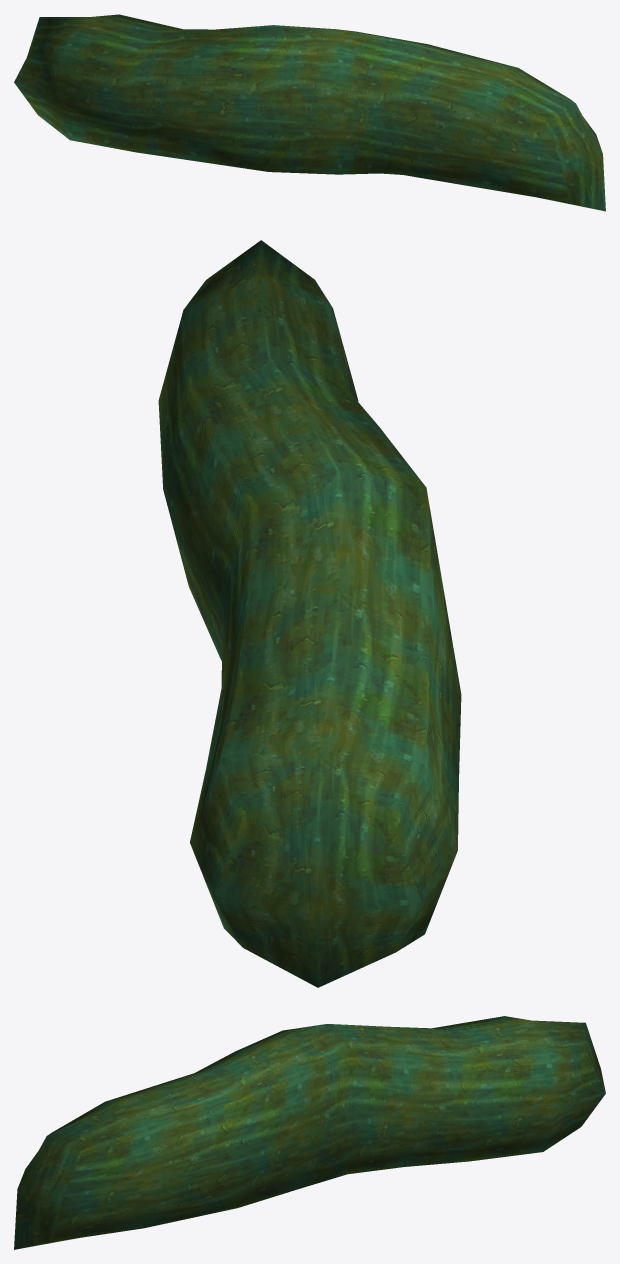
The model's file is MIRKWOOD_MIRK_PLAYSURFACE166.fbx.
The picture shows the model from 3 angles, top to bottom: view 1: azimuth 30°, elevation 25°; view 2: azimuth 150°, elevation 25°; view 3: azimuth 270°, elevation 25°; orthographic projection. The views are drawn at different scales.
Parts seen in each view (by area): view 1: MIRKWOOD_MIRK_PLAYSURFACE166; view 2: MIRKWOOD_MIRK_PLAYSURFACE166; view 3: MIRKWOOD_MIRK_PLAYSURFACE166.
Boxes of the visible parts, left/top/right/bottom form: MIRKWOOD_MIRK_PLAYSURFACE166: left=14, top=14, right=605, bottom=211; MIRKWOOD_MIRK_PLAYSURFACE166: left=158, top=240, right=461, bottom=987; MIRKWOOD_MIRK_PLAYSURFACE166: left=14, top=1016, right=605, bottom=1249.
Bounding box in the file's own units: 104109 × 45835 × 144090.
Materials: 1 (1 with a texture image).
